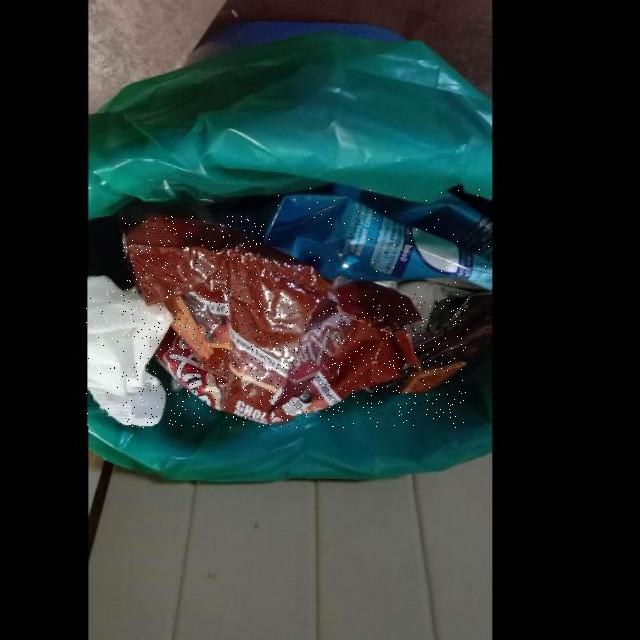plastic: (87, 277, 174, 426)
wrapper: (123, 216, 468, 427), (265, 188, 491, 294)
